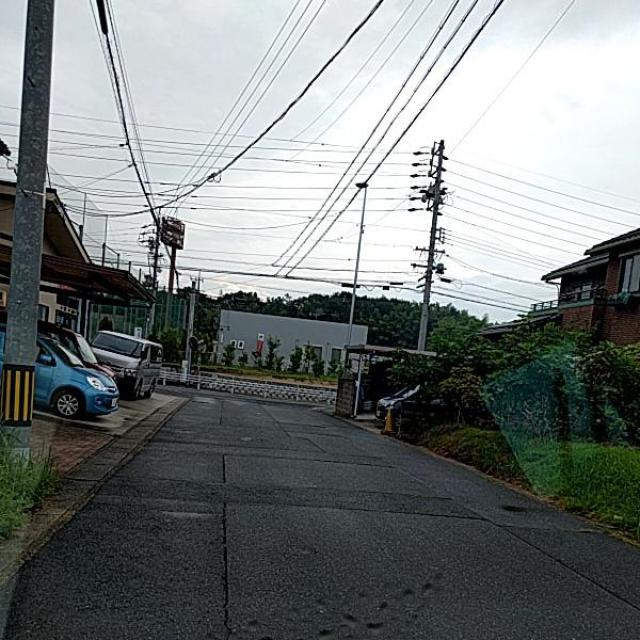Crack: (191, 407, 264, 640)
